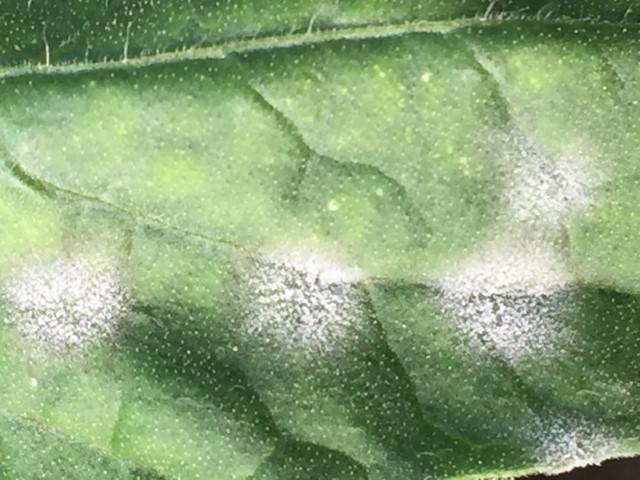oidio: (438, 241, 575, 359), (237, 249, 367, 353), (2, 251, 126, 354), (499, 134, 602, 227), (530, 417, 628, 470)
